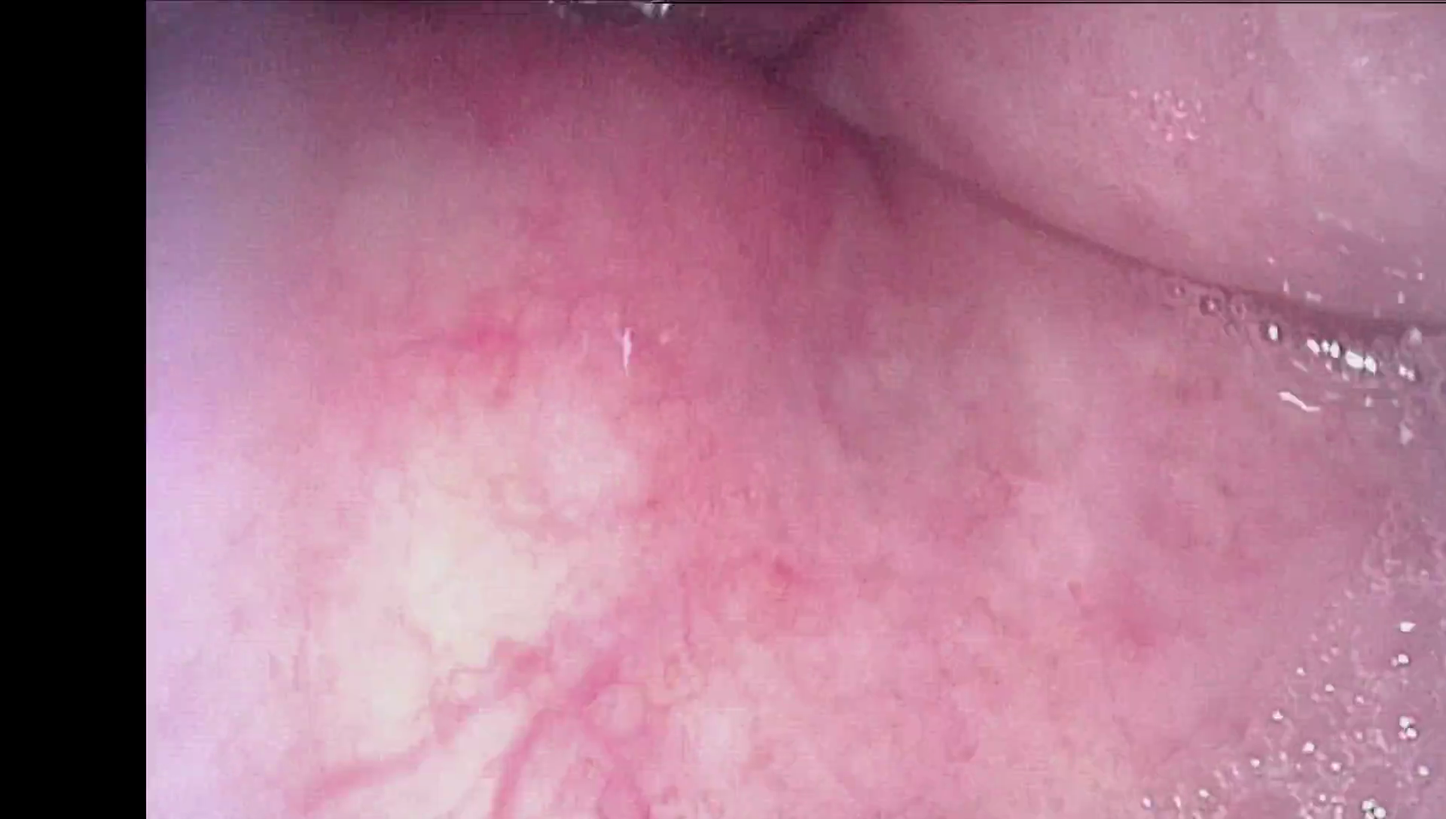close_wall: (182, 163, 1078, 819)
